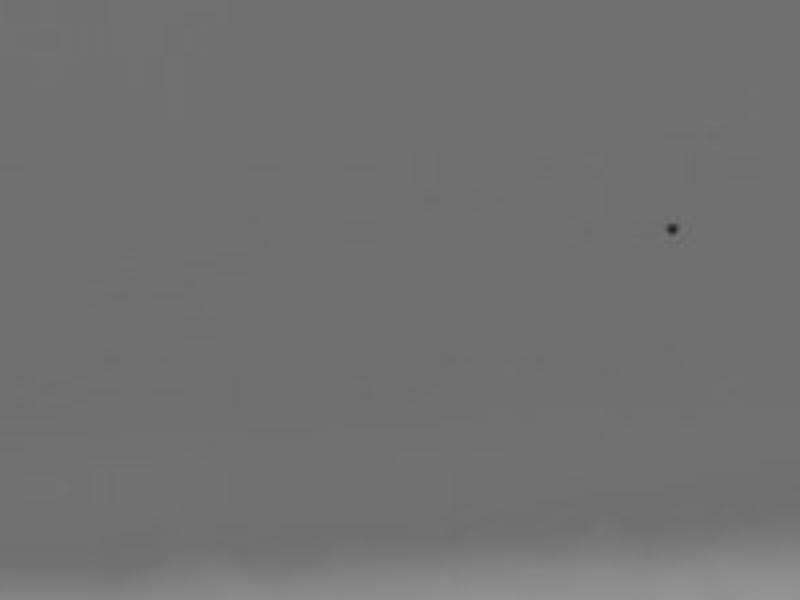defect: (663, 221, 686, 244)
